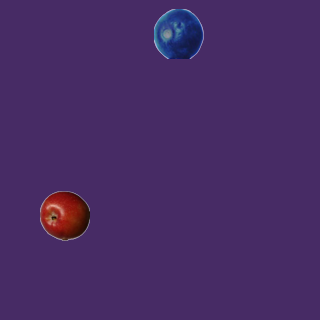Apple Braeburn: (39, 190, 89, 240)
Huckleberry: (153, 8, 203, 58)
